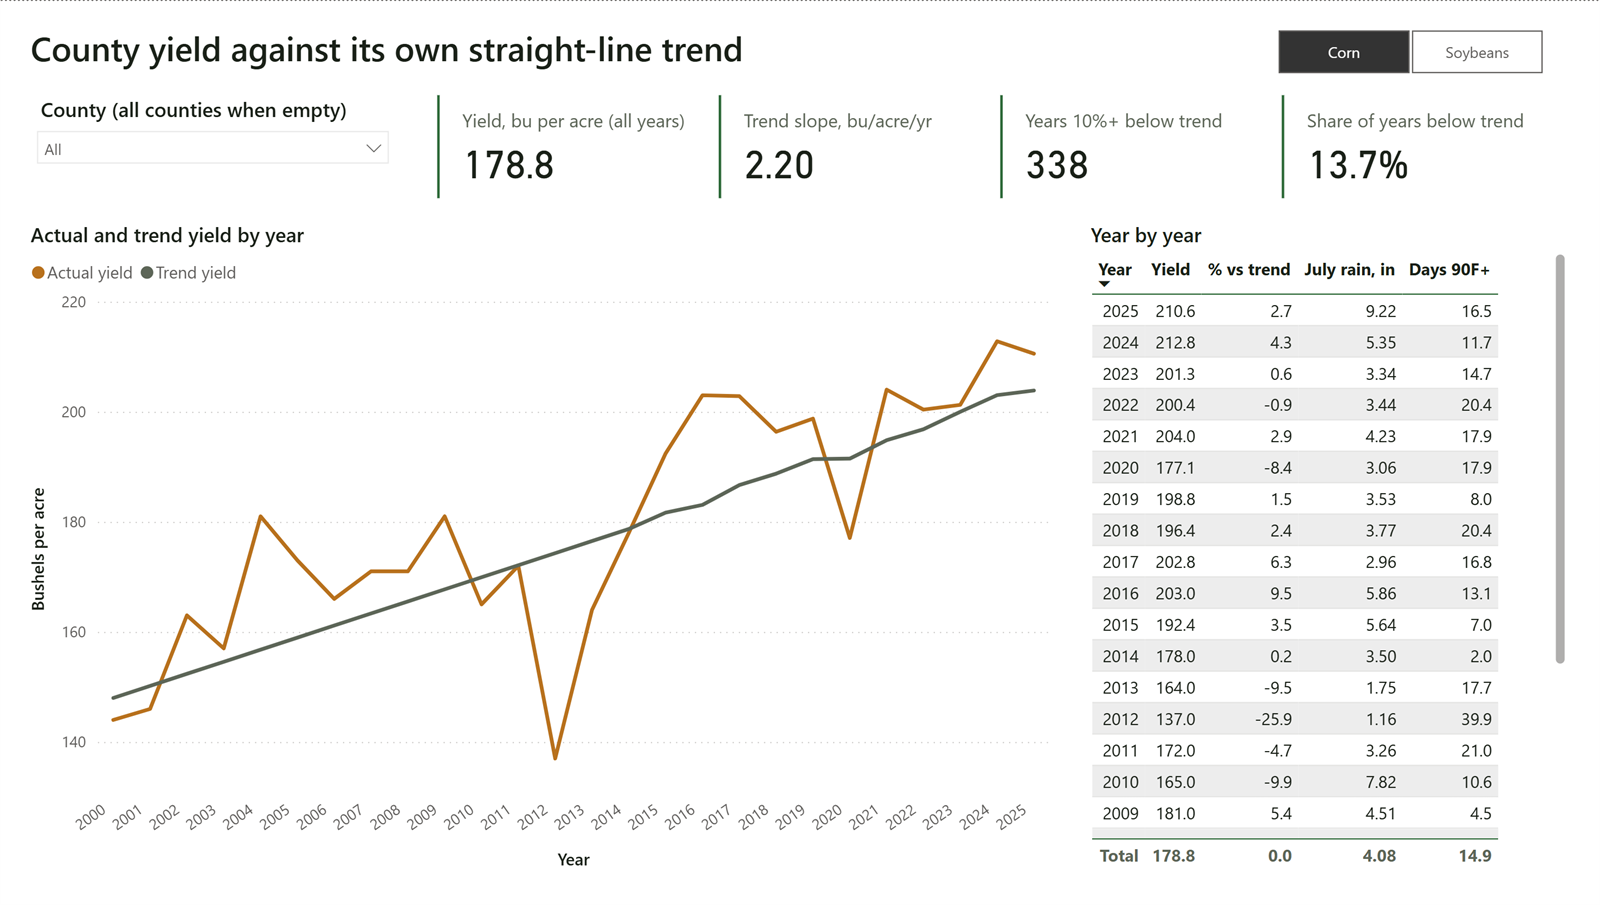

This screenshot's page, from the dashboard's own definition file:
{"tool":"powerbi","page":{"name":"County yield vs trend","canvas":[1280,720],"ordinal":1},"visuals":[{"type":"textbox","box":[24,14,940,48],"z":1500},{"type":"slicer","fields":{"Values":["Crop Type.Crop"]},"box":[996,16,260,48],"z":1600},{"type":"slicer","fields":{"Values":["County.County"]},"box":[24,70,300,92],"z":1700},{"type":"cardVisual","fields":{"Data":["Crop Year.Yield (bu/acre)","Crop Year.Trend Slope (bu/acre/yr)","Crop Year.Bad County Years","Crop Year.Share Bad"]},"box":[348,70,908,92],"z":1800},{"type":"lineChart","title":"Actual and trend yield by year","fields":{"Category":["Crop Year.Year"],"Y":["Crop Year.Yield (bu/acre)","Crop Year.Trend Yield (bu/acre)"]},"box":[24,174,820,522],"z":1900},{"type":"tableEx","title":"Year by year","fields":{"Values":["Crop Year.Year","Crop Year.Yield (bu/acre)","Crop Year.Avg Pct vs Trend","Crop Year.July Rain (in)","Crop Year.Days 90F"]},"box":[868,174,388,522],"z":2000}]}

Visuals, with their boxes in screenshot pixels (x1, y1, x2, y2), scaled from the page's 1280x720 canvas onto the 1600x905 screenshot:
textbox: (x1=30, y1=18, x2=1205, y2=78)
slicer - Crop Type.Crop: (x1=1245, y1=20, x2=1570, y2=80)
slicer - County.County: (x1=30, y1=88, x2=405, y2=204)
cardVisual - Crop Year.Yield (bu/acre) x Crop Year.Trend Slope (bu/acre/yr): (x1=435, y1=88, x2=1570, y2=204)
"Actual and trend yield by year" lineChart: (x1=30, y1=219, x2=1055, y2=875)
"Year by year" tableEx: (x1=1085, y1=219, x2=1570, y2=875)
